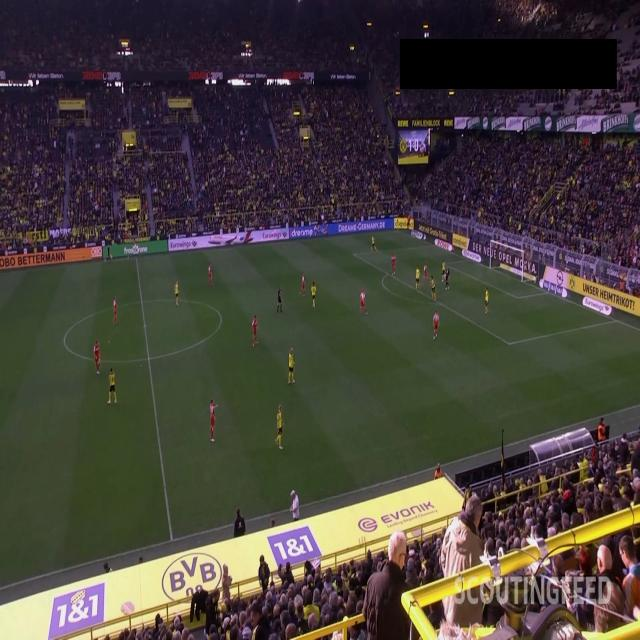f_player: (207, 398, 219, 446), (274, 404, 286, 450), (286, 348, 296, 386), (109, 367, 119, 403), (92, 340, 102, 372), (428, 272, 438, 304), (250, 316, 259, 348), (112, 299, 120, 332), (442, 262, 451, 288), (482, 288, 490, 316), (433, 311, 441, 338), (276, 288, 284, 314), (173, 281, 181, 307), (310, 283, 317, 311), (414, 264, 421, 292), (361, 290, 368, 315), (300, 270, 306, 298), (439, 256, 446, 280), (392, 254, 398, 276), (207, 264, 213, 286), (370, 234, 376, 253), (424, 262, 428, 281)
